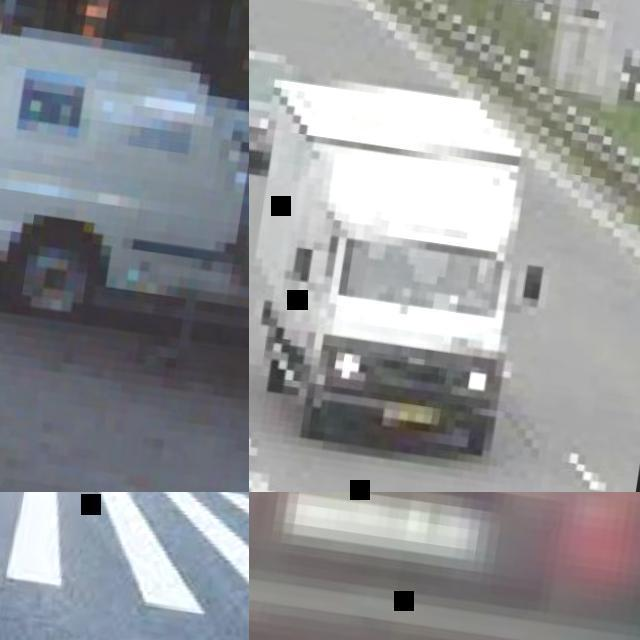car: (258, 81, 534, 454), (3, 30, 250, 330)
